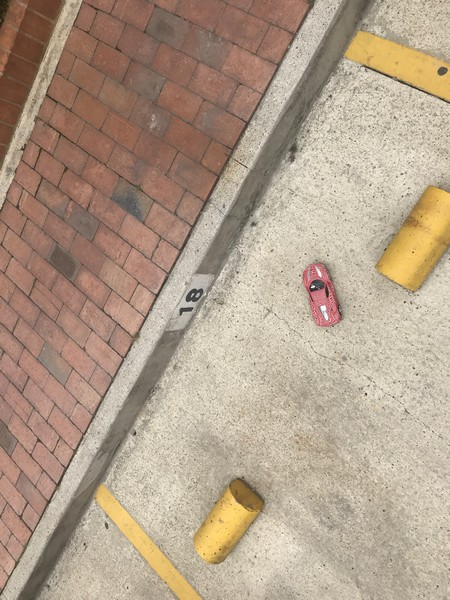RC: (301, 262, 342, 328)
